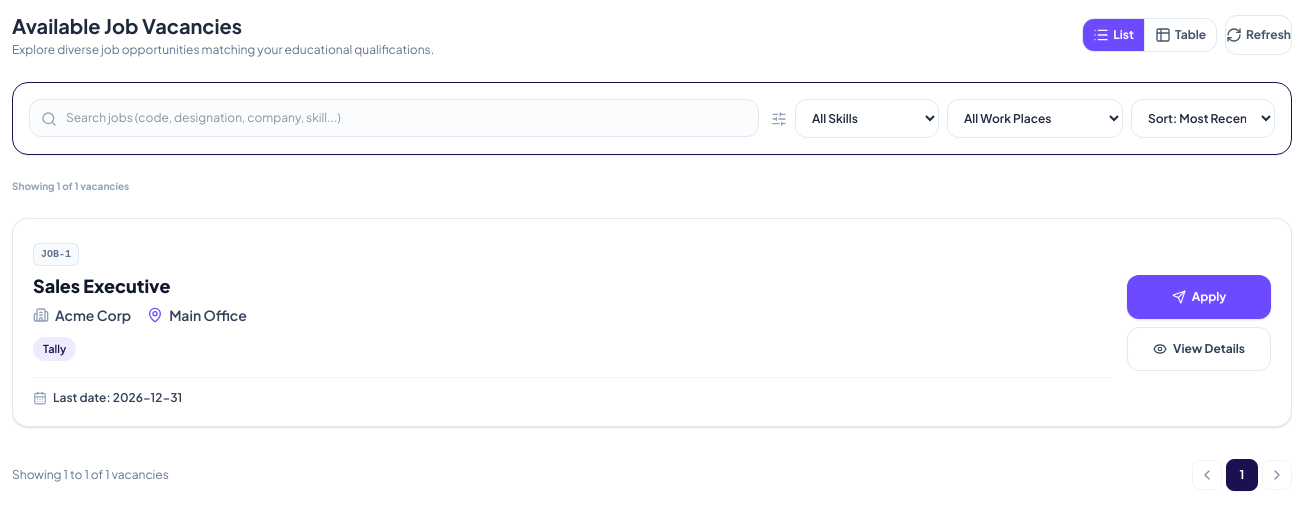
JobListingView › shows workplace and hides salary range in vacancy cards and table
What coordinates should you click on to do the following:
click the button "Table"
I would click on:
 (1180, 35)
Its box is left=1144, top=19, right=1216, bottom=51.
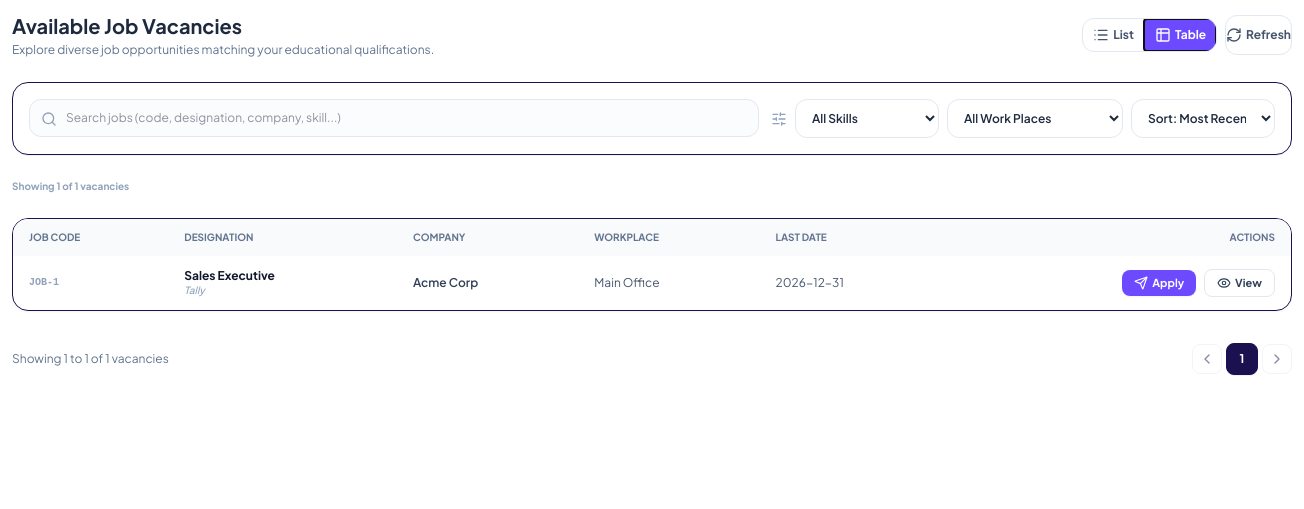
Result: the column heading "Workplace" is shown at left=578, top=219, right=760, bottom=256
